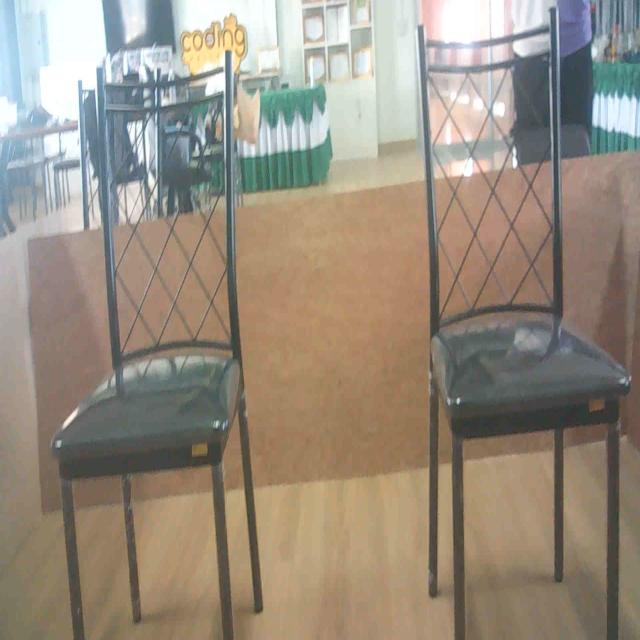empty: (417, 33, 633, 430), (52, 72, 234, 478), (417, 21, 420, 57)
